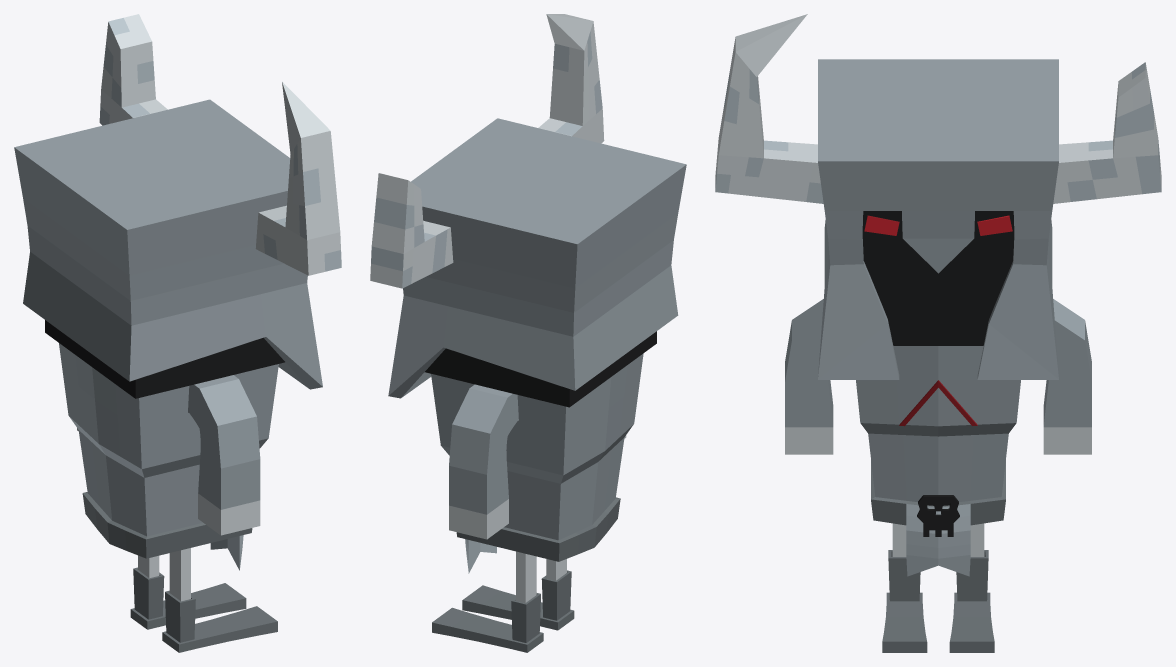
The model's file is Hades.fbx.
3 views of the same model, side by side, from view 1: azimuth 30°, elevation 25°; view 2: azimuth 150°, elevation 25°; view 3: azimuth 270°, elevation 25° (orthographic). The views are drawn at different scales.
Visible parts, largest first — view 1: Cube; view 2: Cube; view 3: Cube.
Boxes of the visible parts, left/top/right/bottom form: Cube: left=14, top=14, right=341, bottom=652; Cube: left=370, top=14, right=686, bottom=652; Cube: left=715, top=14, right=1161, bottom=652.
Bounding box in the file's own units: 200 × 570 × 370.
1 material, 1 textured.
